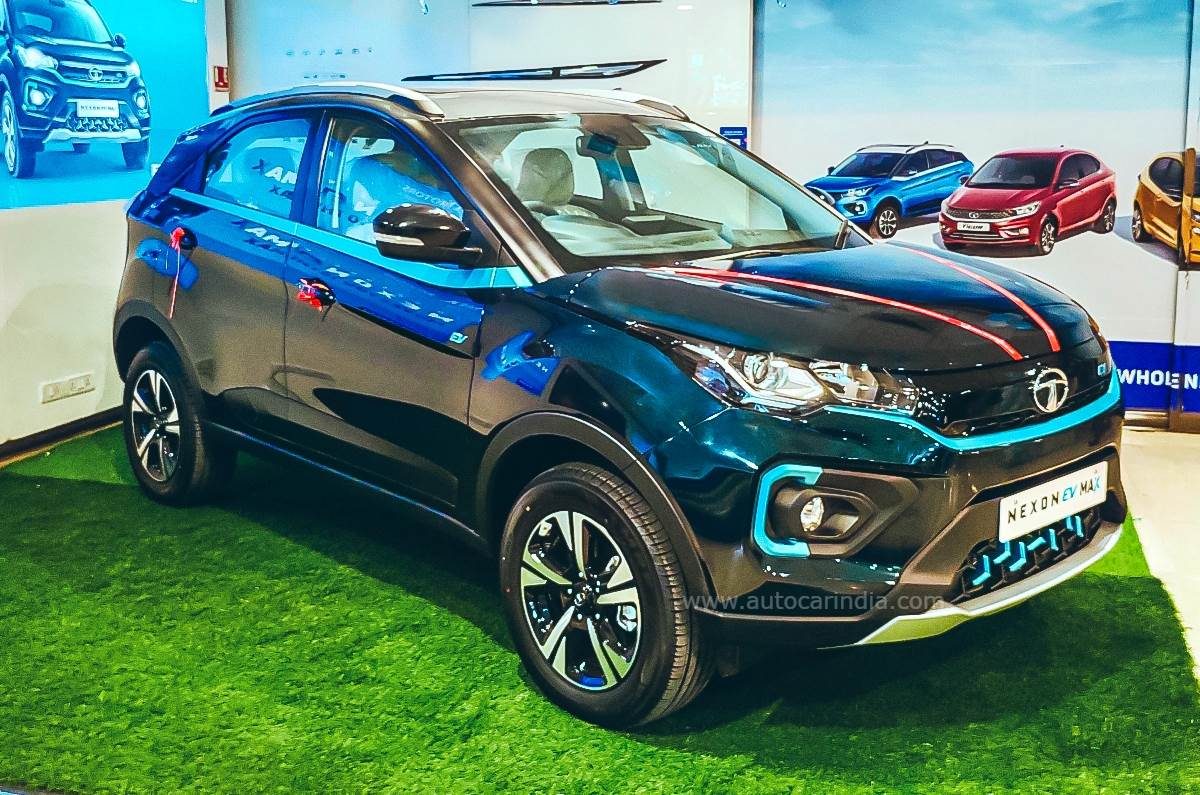Tata Nexon: (111, 75, 1129, 735)
